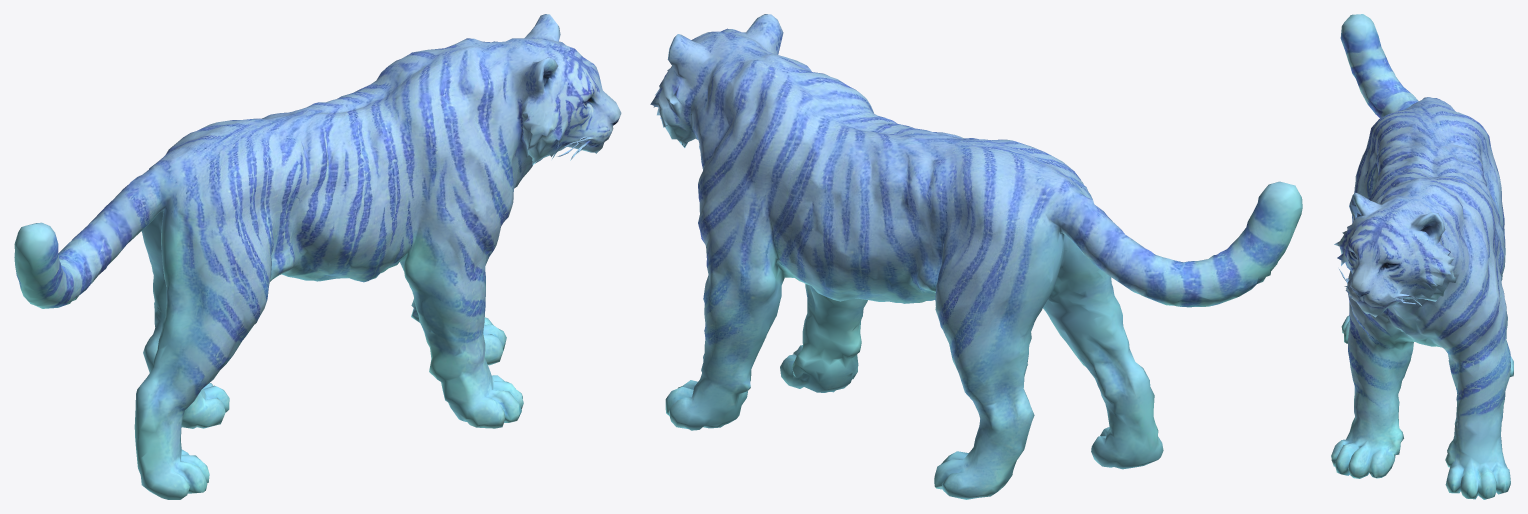
The model's file is RIMESTRIPE.glb.
3 renders of one model, left to right at view 1: azimuth 30°, elevation 25°; view 2: azimuth 150°, elevation 25°; view 3: azimuth 270°, elevation 25°, orthographic. The views are drawn at different scales.
Visible parts, largest first — view 1: tripo_node_79fc5d87-c6a6-4b65-865e-8521b98fdf7d; view 2: tripo_node_79fc5d87-c6a6-4b65-865e-8521b98fdf7d; view 3: tripo_node_79fc5d87-c6a6-4b65-865e-8521b98fdf7d.
Boxes of the visible parts, box(x1,y1,x2,y2) form: tripo_node_79fc5d87-c6a6-4b65-865e-8521b98fdf7d: box(14, 14, 621, 499); tripo_node_79fc5d87-c6a6-4b65-865e-8521b98fdf7d: box(650, 14, 1302, 499); tripo_node_79fc5d87-c6a6-4b65-865e-8521b98fdf7d: box(1331, 14, 1513, 499).
Size of the model in its own units: 1.81 by 1 by 0.5501.
Materials: 1 (1 with a texture image).
